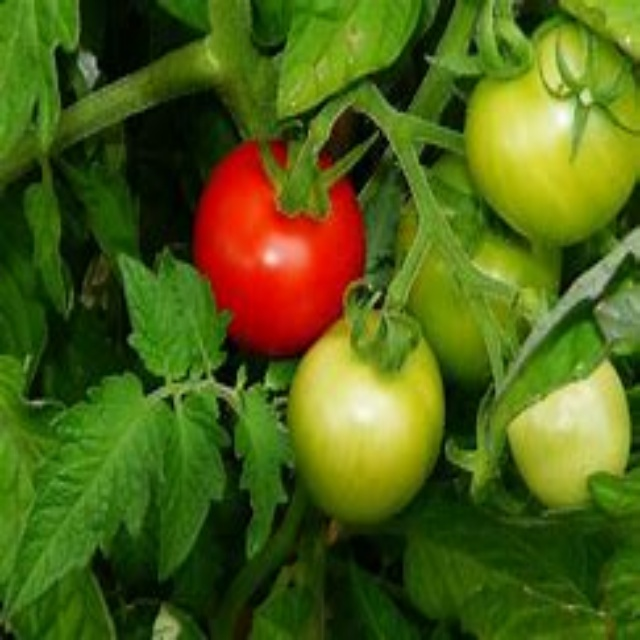tomato: (468, 20, 639, 247), (193, 132, 361, 357), (385, 176, 564, 380), (289, 310, 450, 529), (501, 340, 639, 509)
